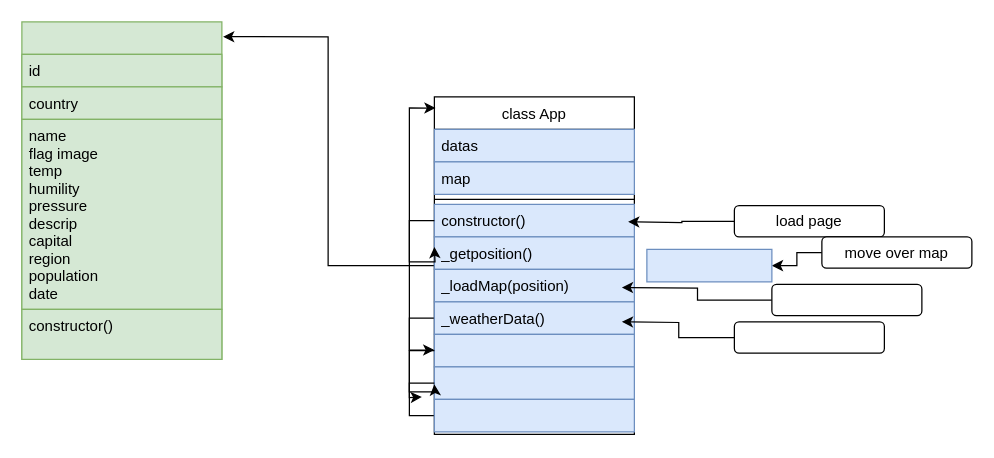
The diagram is 994 pixels wide and 458 high, and some of its shapes have lost their labels. The box of each missing label's shape, as (x1, y1, x2, y2) in pixels:
_assembleData(): (433, 366, 634, 399)
_countryData(): (433, 333, 634, 367)
_newData(): (433, 398, 634, 432)
_updateDate(): (646, 248, 772, 282)
Class Data: (21, 21, 222, 359)
click on map: (733, 321, 884, 353)
recieve position: (771, 283, 922, 316)
